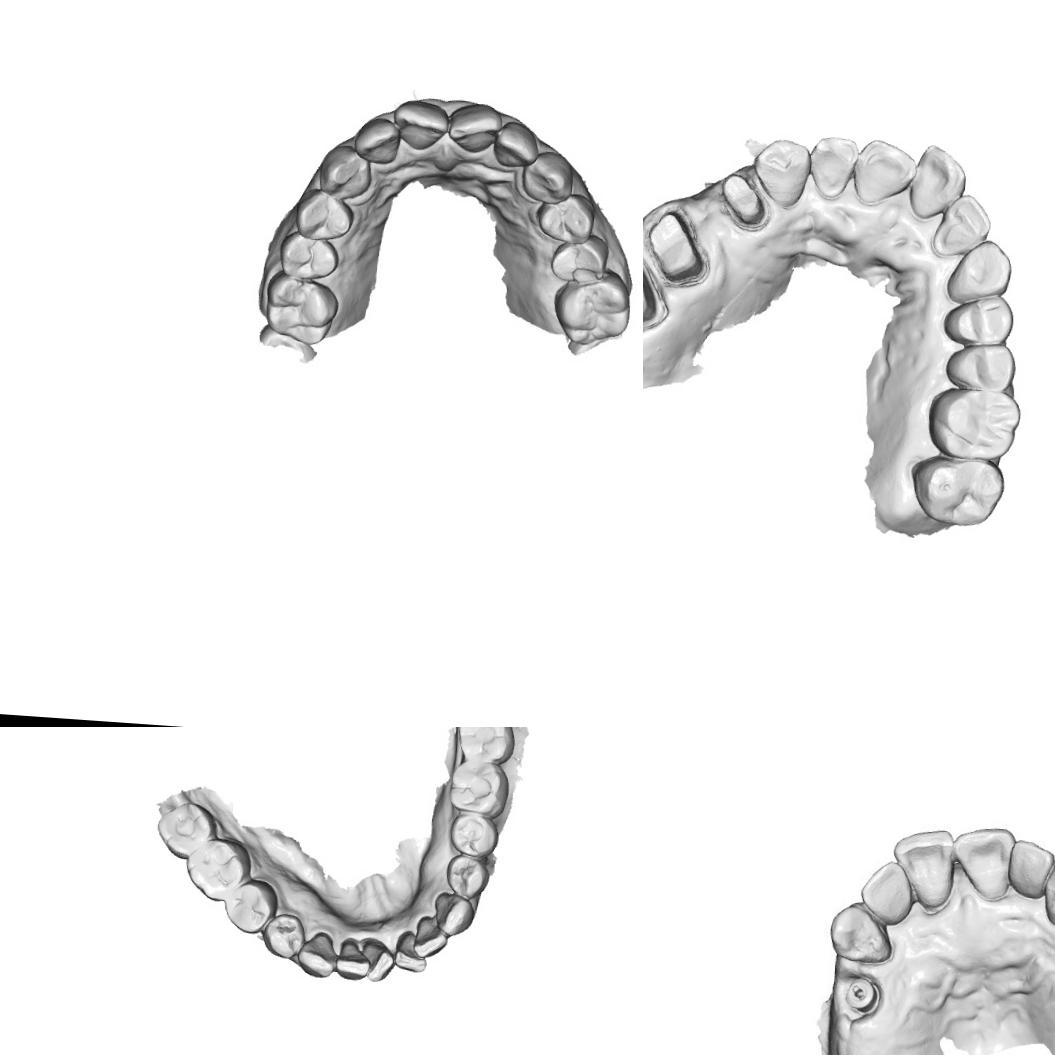canine: (944, 235, 1014, 306), (749, 135, 813, 212), (825, 898, 892, 966), (518, 147, 576, 206), (317, 142, 374, 201), (293, 927, 341, 980), (430, 890, 476, 938), (1039, 857, 1055, 928)
crown: (643, 202, 712, 287), (714, 170, 776, 235), (643, 252, 661, 330)
implant_minus: (841, 972, 882, 1016)
incisor: (888, 824, 958, 910), (947, 823, 1018, 902), (848, 136, 921, 208), (906, 142, 969, 222), (930, 190, 994, 258), (856, 858, 914, 927), (806, 132, 860, 200), (389, 97, 450, 153), (444, 98, 504, 154), (1004, 837, 1054, 900), (488, 118, 540, 170), (351, 115, 404, 166), (358, 934, 396, 983), (332, 936, 372, 982), (390, 928, 429, 975), (410, 914, 448, 960)
molar: (923, 383, 1023, 465), (906, 452, 1008, 530), (548, 264, 634, 350), (262, 266, 340, 348), (181, 834, 254, 904), (150, 797, 221, 863), (445, 758, 511, 818), (452, 727, 518, 764)
premolar: (938, 290, 1016, 350), (941, 336, 1020, 395), (532, 190, 597, 246), (221, 875, 280, 936), (548, 230, 611, 286), (293, 186, 356, 242), (276, 228, 340, 282), (446, 810, 500, 858), (258, 910, 306, 961), (442, 852, 490, 901)
